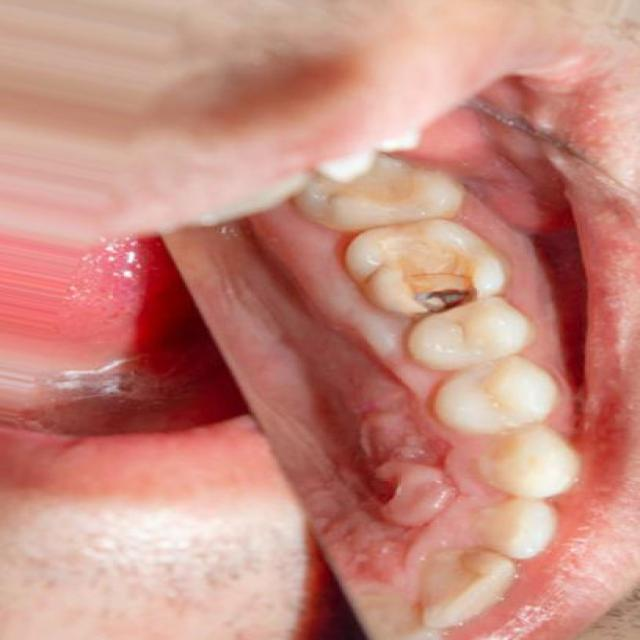caries: (359, 229, 512, 327)
